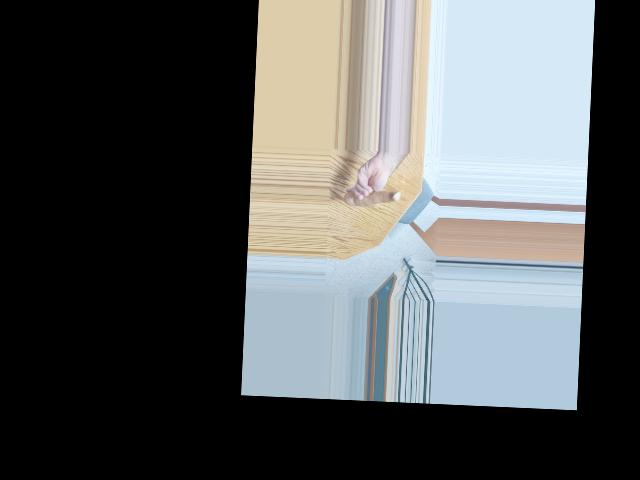sweet_potato: (343, 183, 399, 210)
